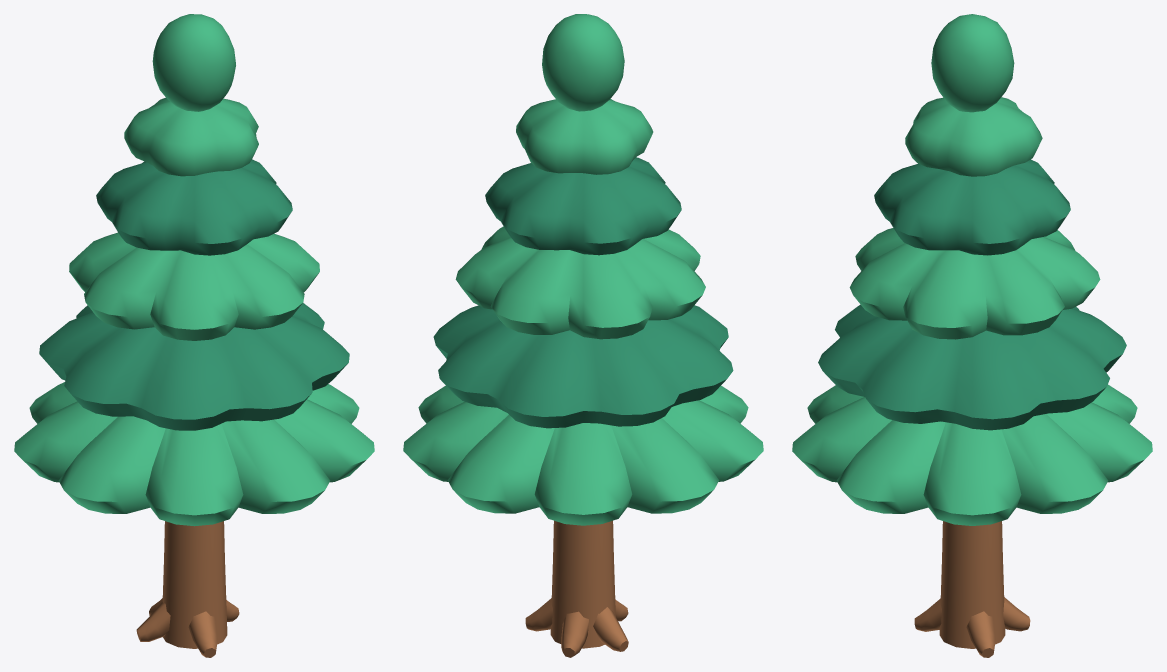
Rendered from prop_tree_tall.glb.
3 renders of one model, left to right at view 1: azimuth 30°, elevation 25°; view 2: azimuth 150°, elevation 25°; view 3: azimuth 270°, elevation 25°, orthographic.
Parts seen in each view (by area): view 1: prop_tree_tall; view 2: prop_tree_tall; view 3: prop_tree_tall.
Part boxes in pixels (<box>): prop_tree_tall: <box>14,14,374,657</box>; prop_tree_tall: <box>403,14,763,657</box>; prop_tree_tall: <box>792,14,1152,657</box>.
Bounding box in the file's own units: 2.93 × 5.59 × 2.95.
